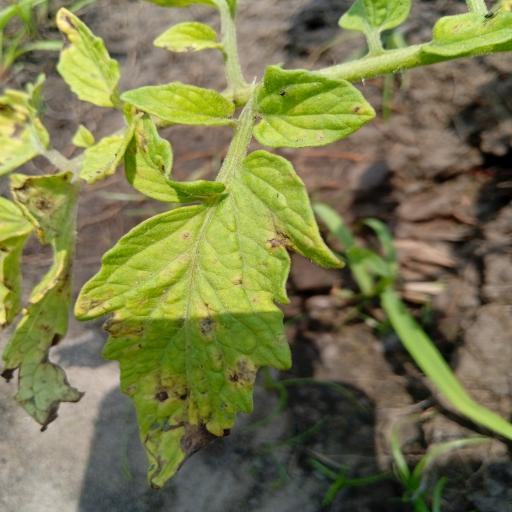Tomato_Brown_Spots: (76, 146, 346, 494), (254, 63, 376, 149)
